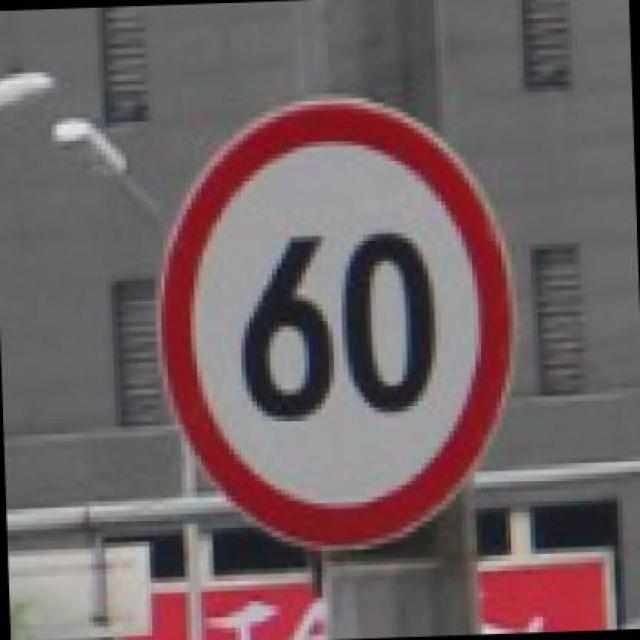Limite-60: (149, 96, 520, 555)
